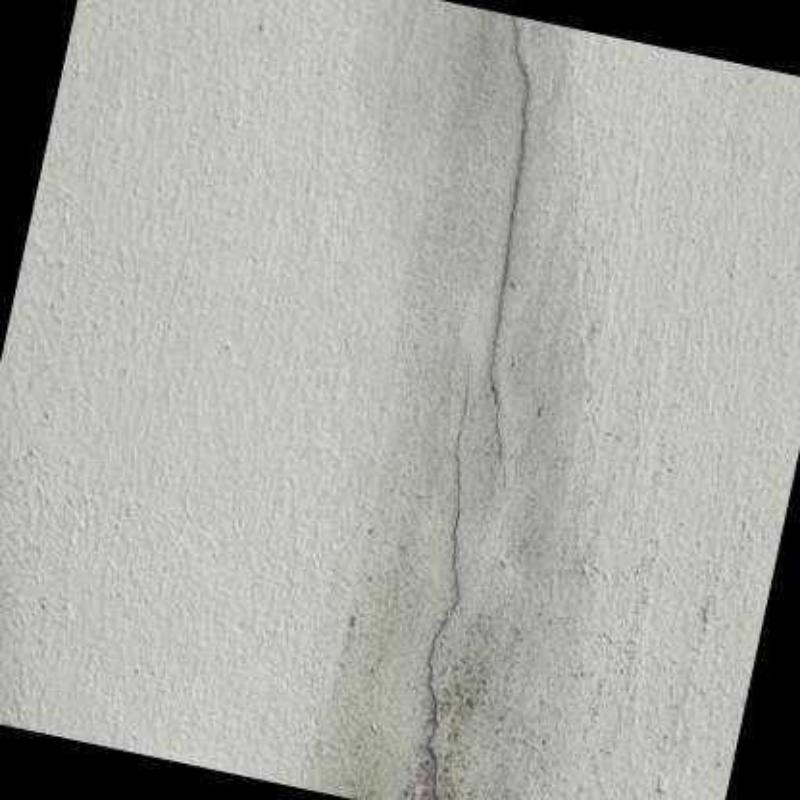crack: (423, 357, 474, 800), (485, 18, 532, 492)
